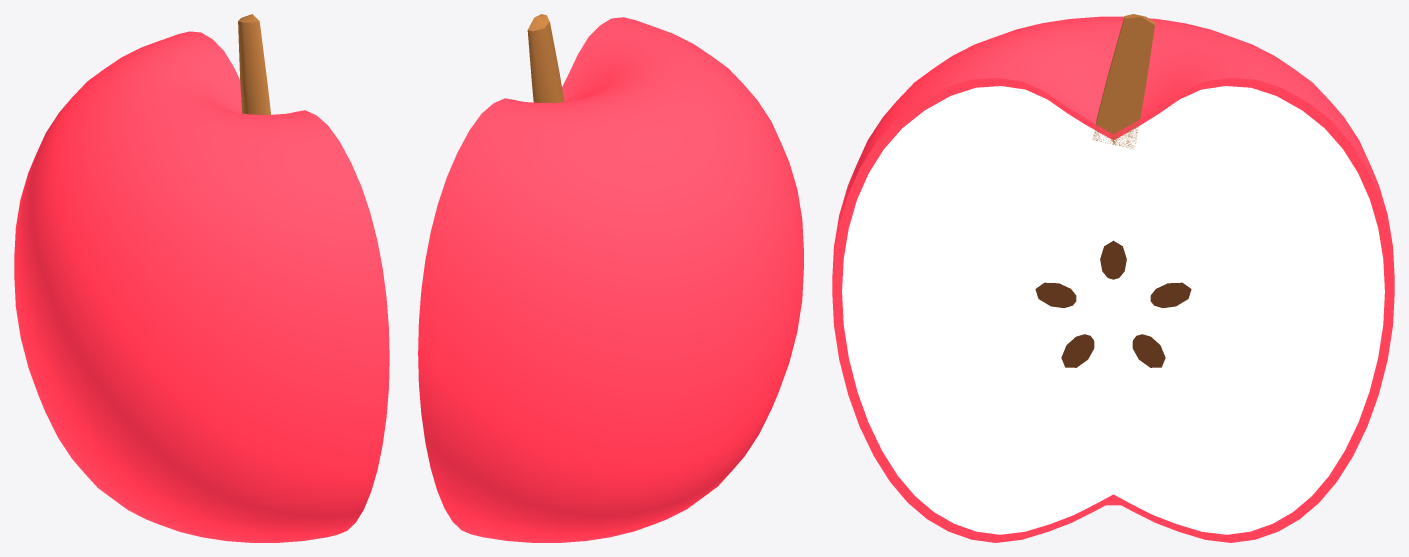
3 views of the same model, side by side, from view 1: azimuth 30°, elevation 25°; view 2: azimuth 150°, elevation 25°; view 3: azimuth 270°, elevation 25° (orthographic). The views are drawn at different scales.
Parts seen in each view (by area): view 1: Apple-left; view 2: Apple-left; view 3: Apple-left.
Part boxes in pixels (bbox=[...]): Apple-left: bbox=[14, 14, 389, 542]; Apple-left: bbox=[418, 14, 803, 542]; Apple-left: bbox=[832, 14, 1394, 542].
Bounding box in the file's own units: 0.02 × 0.0409 × 0.0397.
